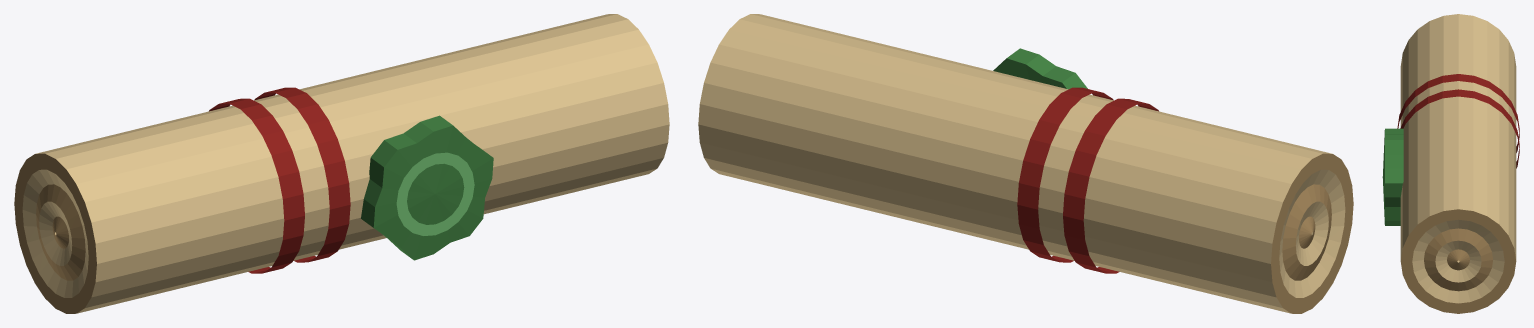
File: VFP_Scroll.obj
3 views of the same model, side by side, from view 1: azimuth 30°, elevation 25°; view 2: azimuth 150°, elevation 25°; view 3: azimuth 270°, elevation 25° (orthographic). The views are drawn at different scales.
Visible parts, largest first — view 1: Paper, Seal, Ribbon, PaperEnd, SealMark; view 2: Paper, Ribbon, PaperEnd, Seal; view 3: Paper, PaperEnd, Ribbon, Seal.
Part boxes in pixels (left/top/right/bottom): Paper: left=22, top=14, right=669, bottom=313; Seal: left=361, top=115, right=493, bottom=260; Ribbon: left=209, top=87, right=350, bottom=273; PaperEnd: left=14, top=153, right=96, bottom=313; SealMark: left=396, top=152, right=474, bottom=235; Paper: left=698, top=14, right=1345, bottom=313; Ribbon: left=1017, top=87, right=1158, bottom=273; PaperEnd: left=1271, top=153, right=1353, bottom=313; Seal: left=993, top=48, right=1087, bottom=89; Paper: left=1400, top=14, right=1516, bottom=303; PaperEnd: left=1400, top=209, right=1516, bottom=313; Ribbon: left=1397, top=74, right=1519, bottom=168; Seal: left=1382, top=128, right=1403, bottom=225.
Size of the model in its own units: 0.44 by 0.1166 by 0.1309.
